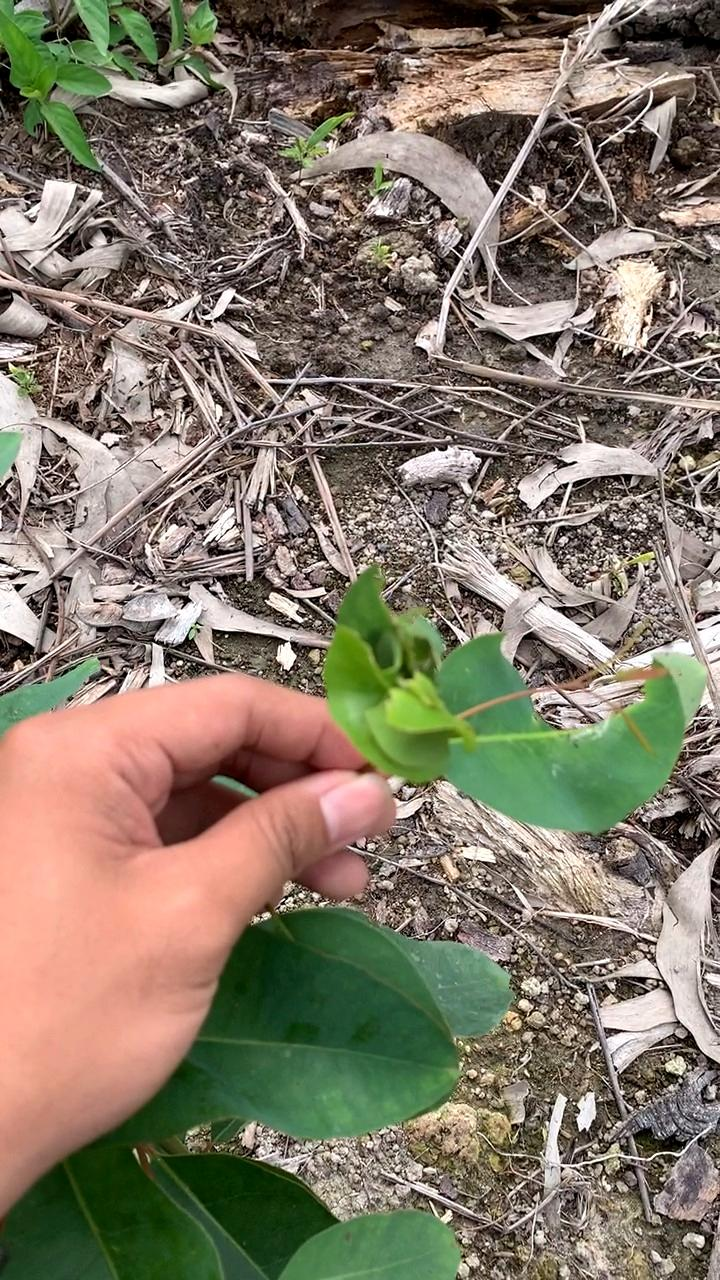Leaf Roller - Leaf: (323, 578, 483, 795)
